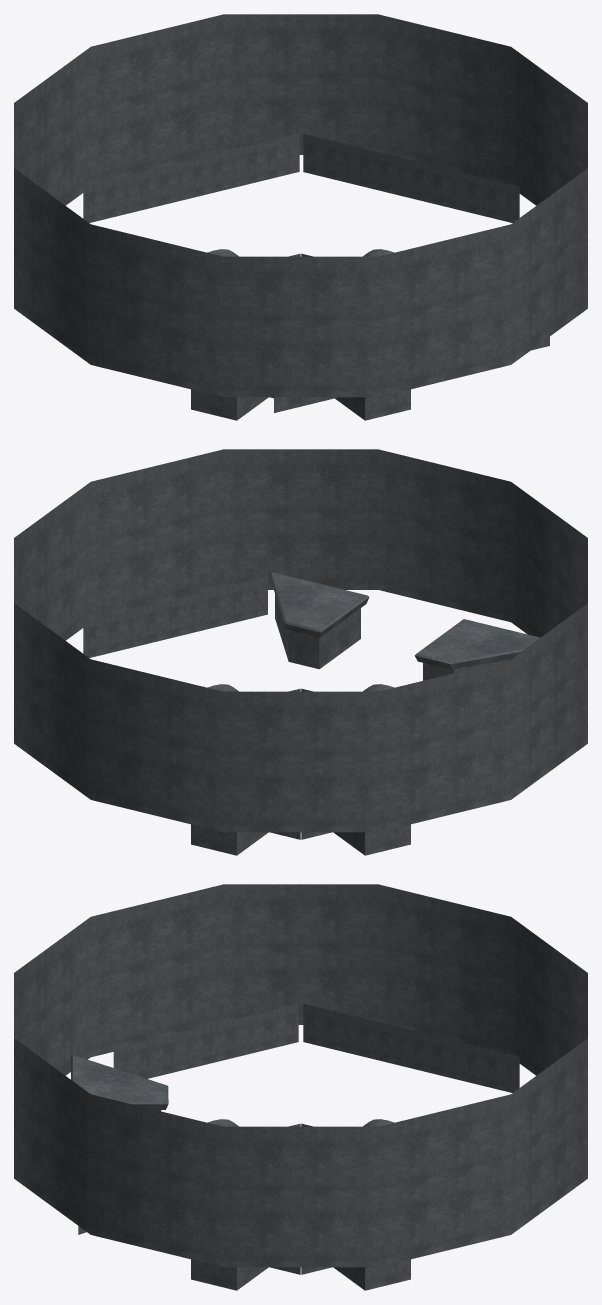
The model's file is jingjz_building_01a.FBX.
The picture shows the model from 3 angles, top to bottom: view 1: azimuth 30°, elevation 25°; view 2: azimuth 150°, elevation 25°; view 3: azimuth 270°, elevation 25°; orthographic projection.
Parts seen in each view (by area): view 1: jingjz_building_01a; view 2: jingjz_building_01a; view 3: jingjz_building_01a.
Part boxes in pixels (x1,y1,x2,y2): jingjz_building_01a: (14, 14, 587, 420); jingjz_building_01a: (14, 449, 587, 855); jingjz_building_01a: (14, 884, 587, 1290).
Size of the model in its own units: 385 by 160 by 385.
